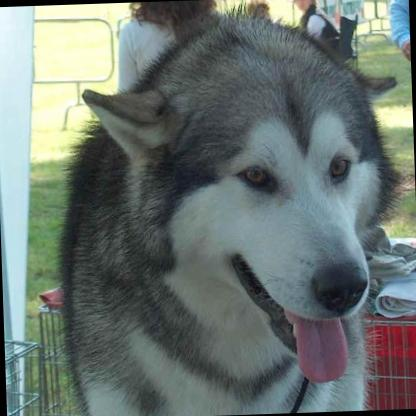malamute: (46, 13, 403, 416)
